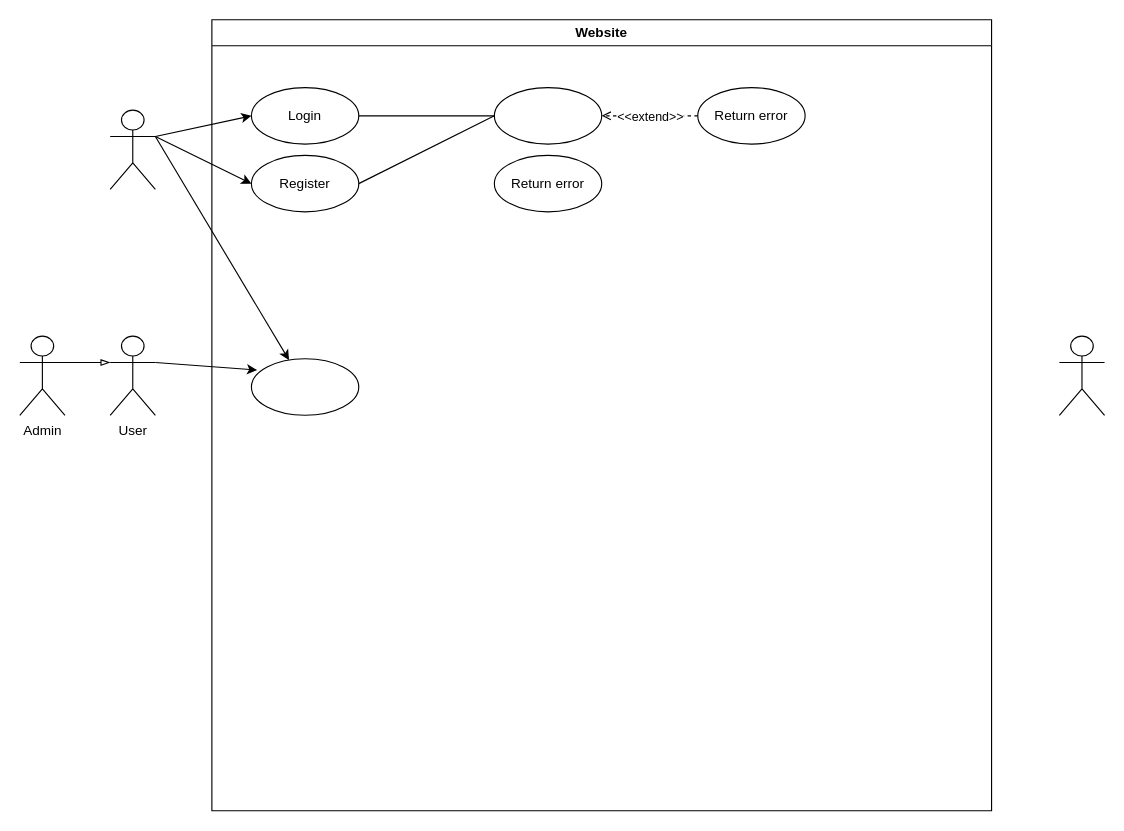
This 1124x831 diagram has some shape labels left out. Each missing label, with the centre of its shape:
Check information: point 547,115
Guest: point 132,149
Search item: point 304,386
Server: point 1081,375
